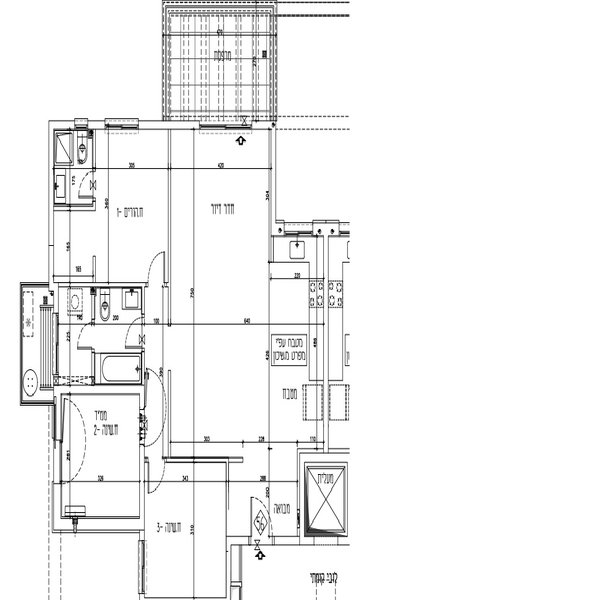door: (141, 458, 166, 500), (74, 323, 105, 352), (123, 318, 150, 351), (147, 251, 167, 285), (79, 167, 99, 194)
room: (48, 118, 173, 294), (52, 391, 141, 533)
